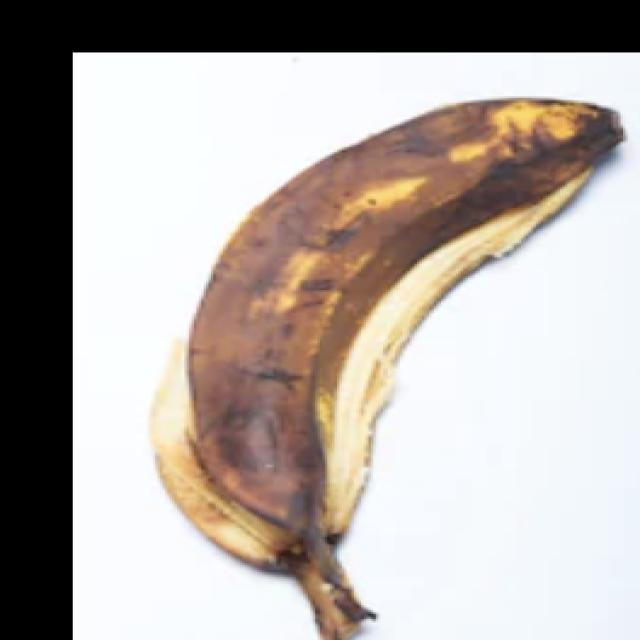Rotten: (126, 75, 623, 640)
